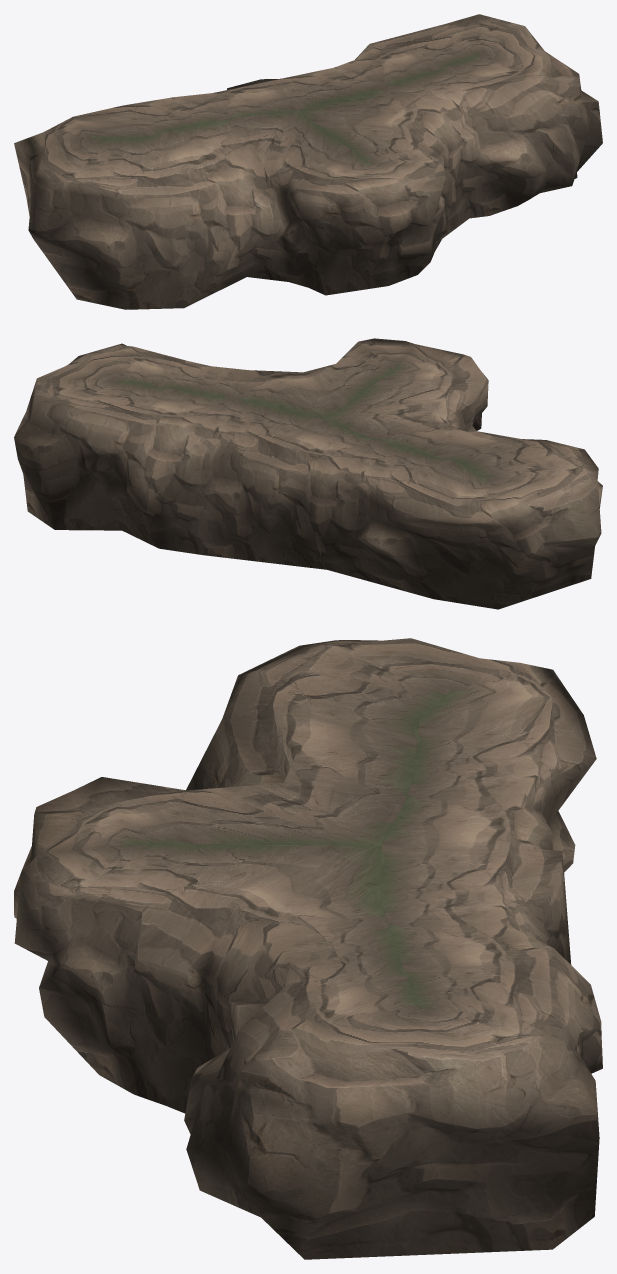
The model's file is Terrain02_Build_LostTemple_002.FBX.
3 views of the same model, one above another, from view 1: azimuth 30°, elevation 25°; view 2: azimuth 150°, elevation 25°; view 3: azimuth 270°, elevation 25° (orthographic). The views are drawn at different scales.
Parts seen in each view (by area): view 1: Terrain02_Build_LostTemple_002; view 2: Terrain02_Build_LostTemple_002; view 3: Terrain02_Build_LostTemple_002.
Boxes of the visible parts, left/top/right/bottom form: Terrain02_Build_LostTemple_002: left=14, top=14, right=602, bottom=309; Terrain02_Build_LostTemple_002: left=14, top=338, right=602, bottom=609; Terrain02_Build_LostTemple_002: left=14, top=638, right=602, bottom=1259.
Bounding box in the file's own units: 16906 × 3456 × 9315.
